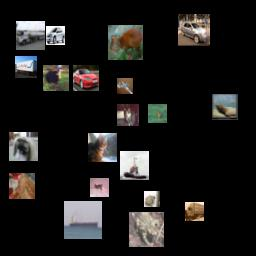airplane: (117, 78, 133, 94)
automobile: (178, 14, 210, 46), (73, 65, 99, 91), (46, 26, 65, 45)
bird: (43, 65, 69, 91)
cat: (88, 133, 117, 162), (9, 173, 35, 199), (117, 104, 139, 126), (90, 178, 109, 197)
deer: (108, 25, 143, 60), (212, 94, 238, 120), (148, 104, 167, 123)
dog: (9, 132, 38, 161)
frog: (129, 212, 164, 247), (144, 191, 160, 207)
ship: (64, 201, 102, 239), (120, 151, 149, 180)
truck: (16, 21, 45, 50), (15, 56, 37, 78), (185, 202, 204, 221)
